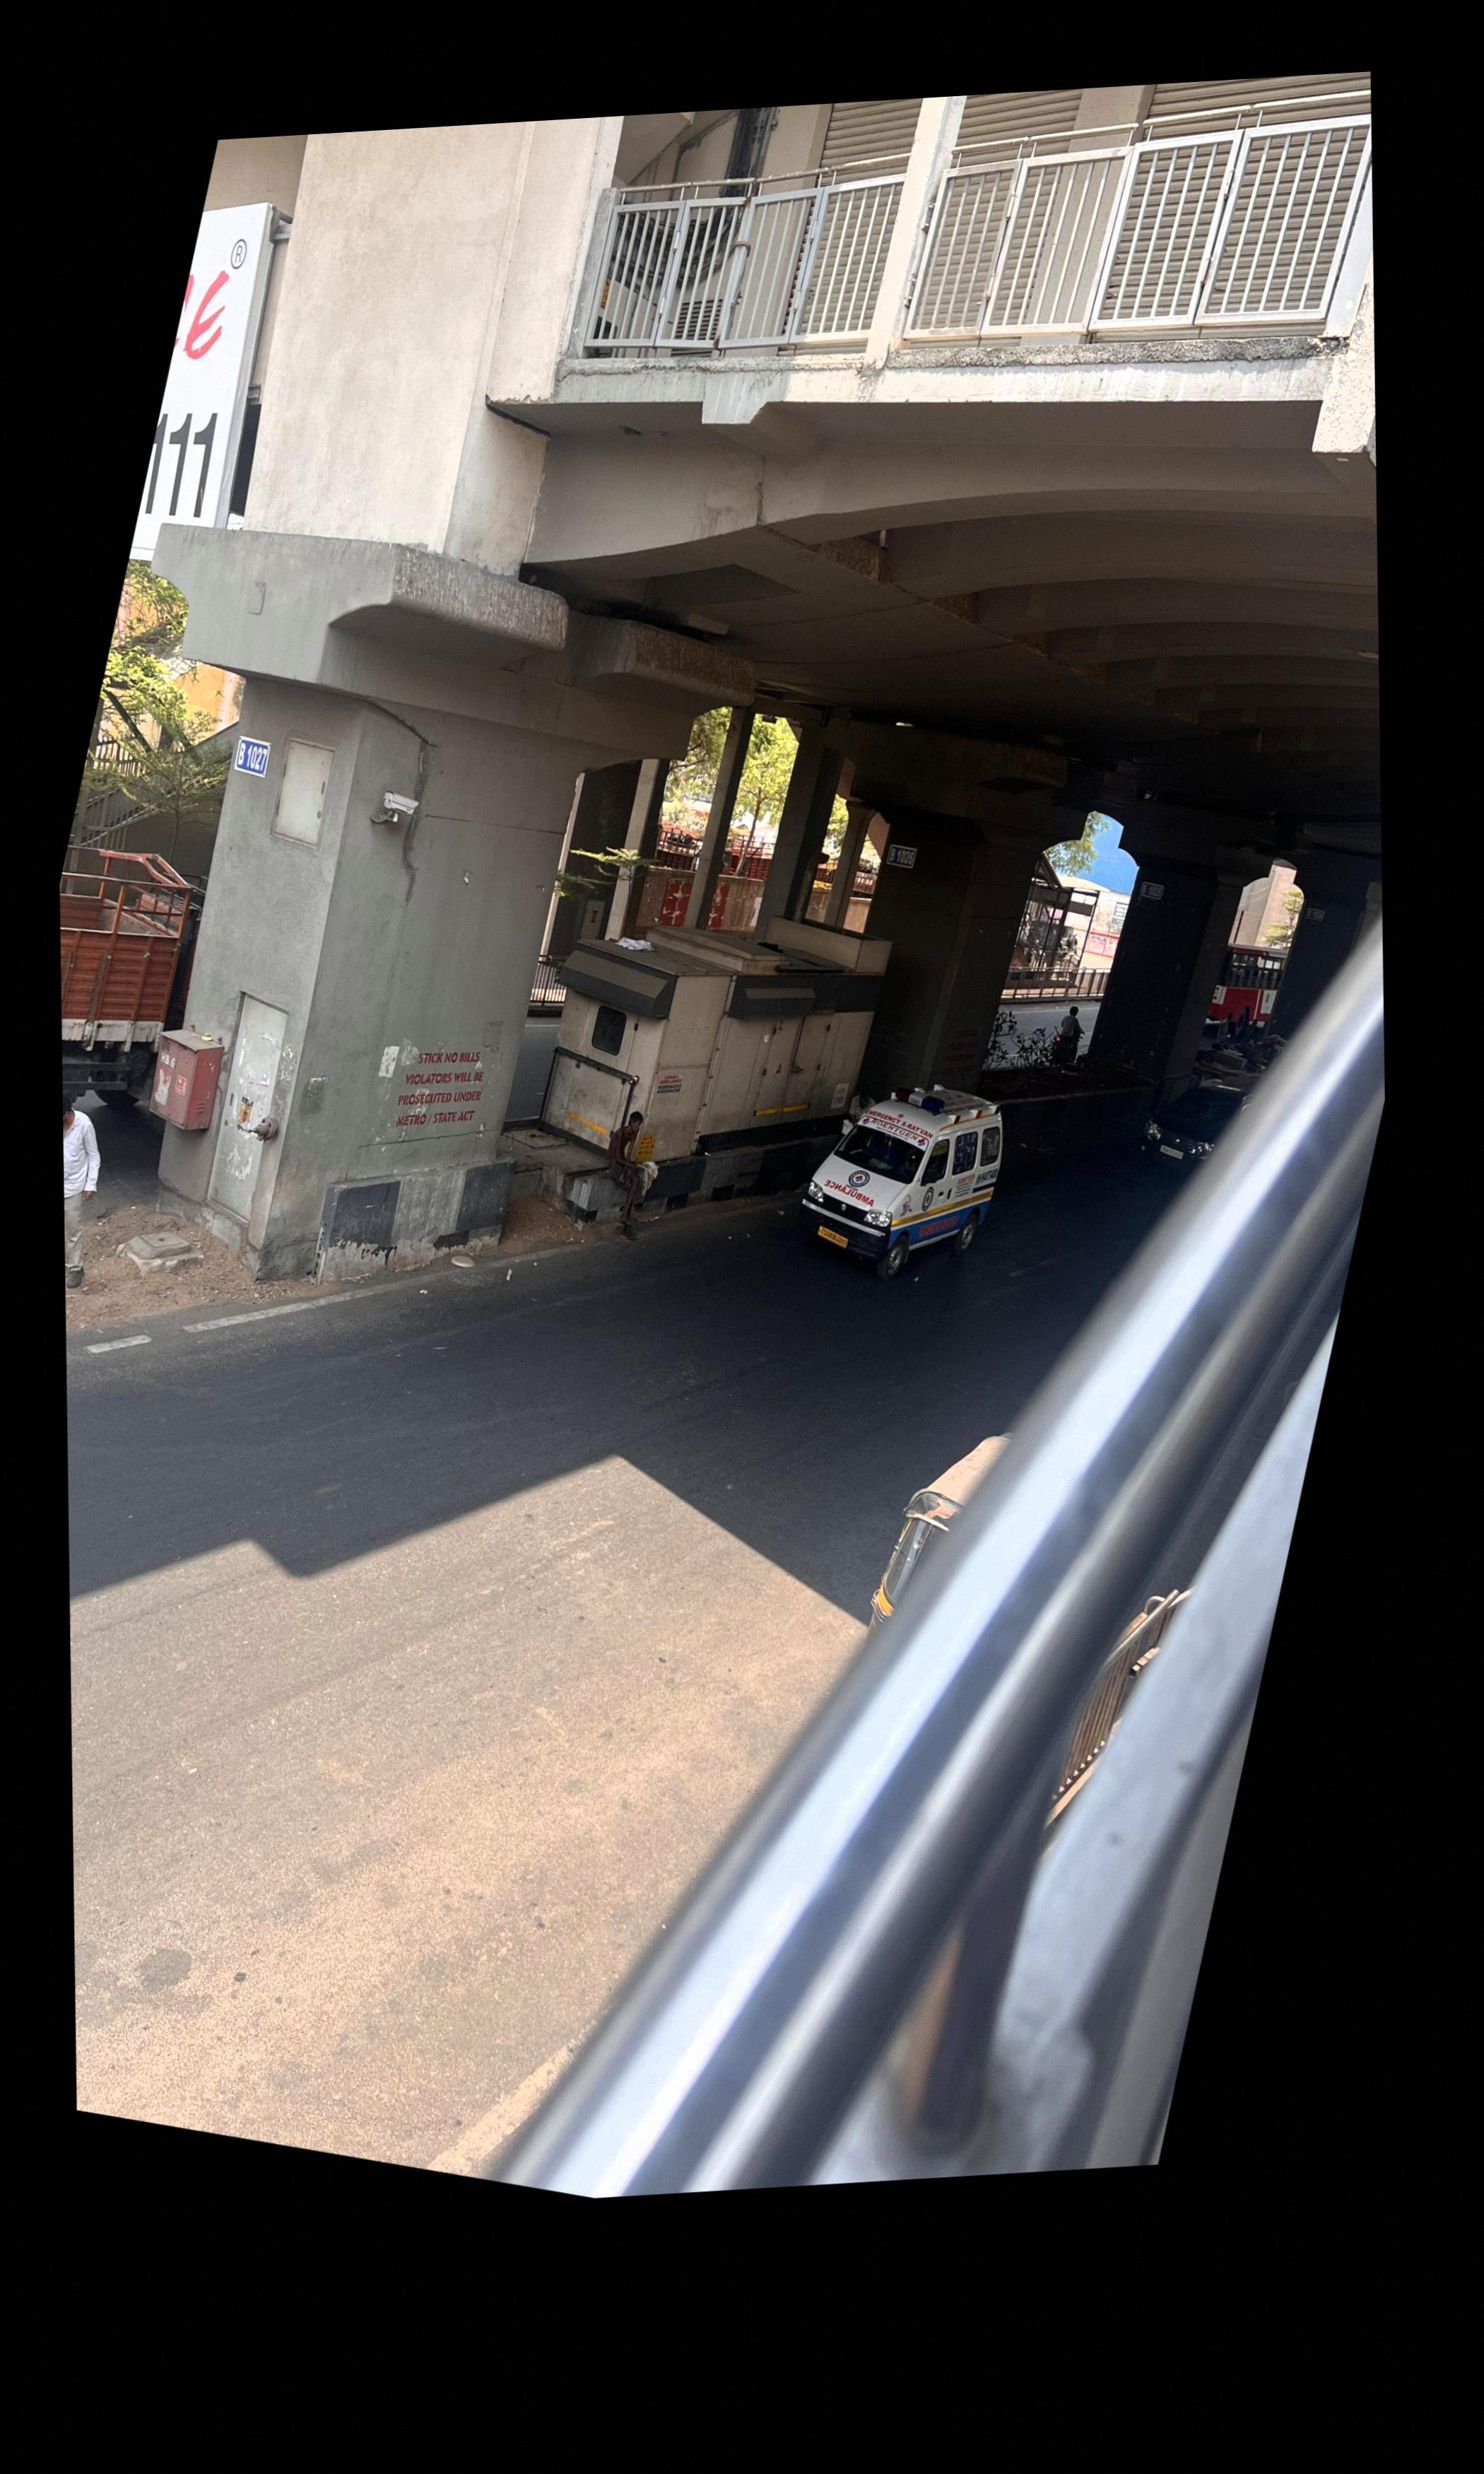ambulance: (799, 1089, 1009, 1279)
